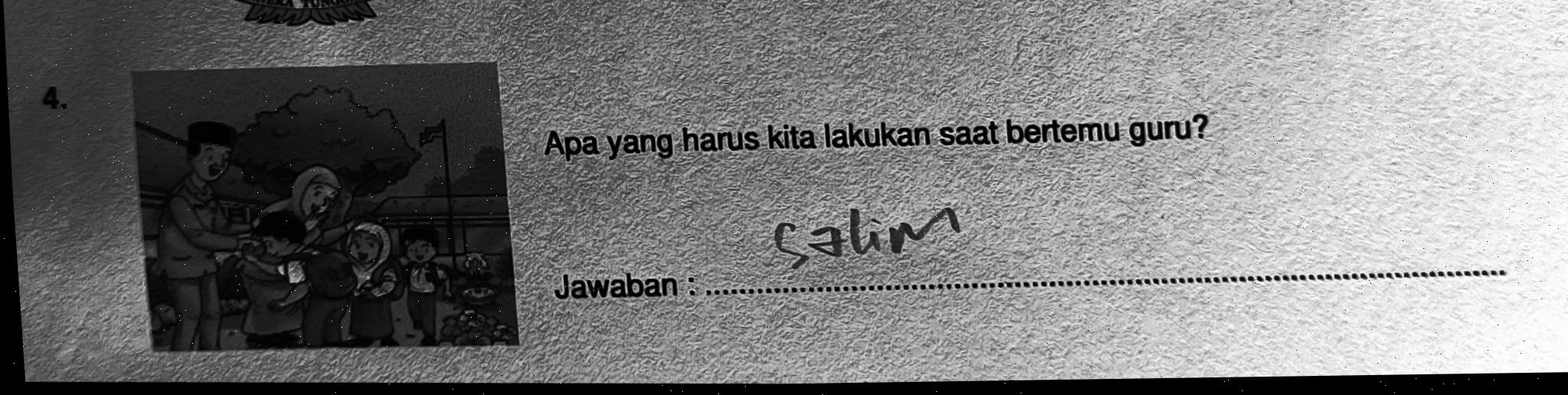jawaban: (770, 186, 974, 283)
